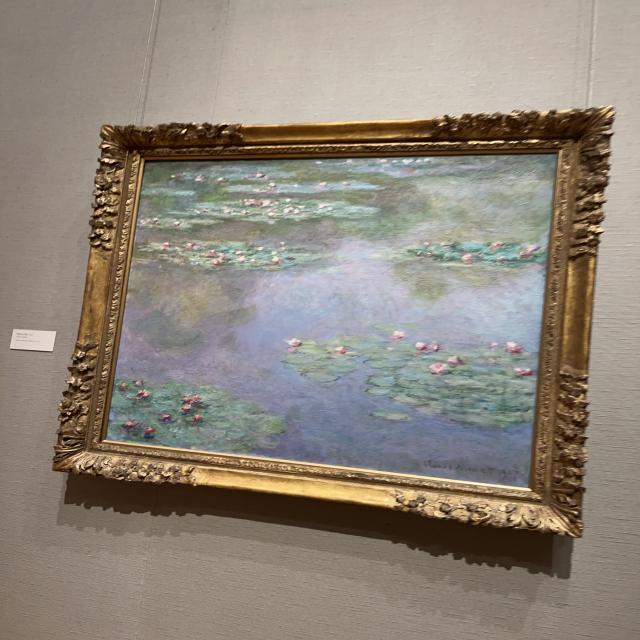lilies: (111, 158, 552, 484)
